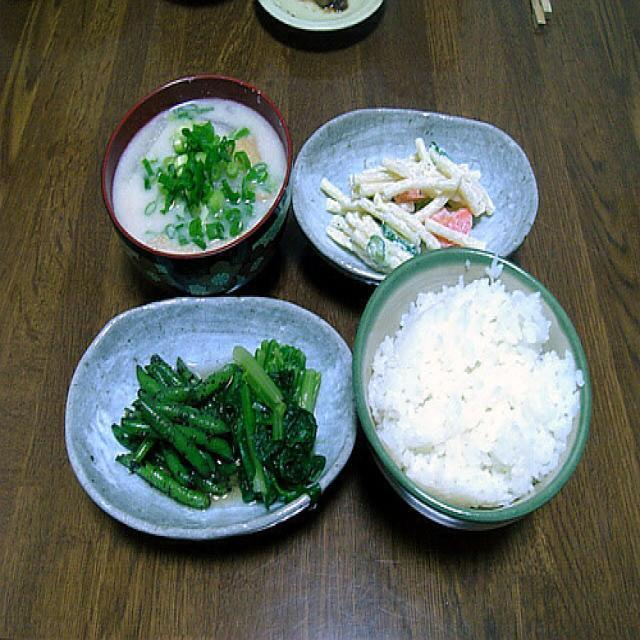Rice: (366, 269, 573, 486)
